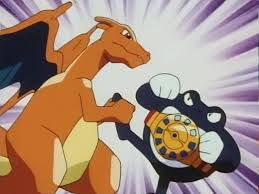charizard: (1, 2, 150, 194)
